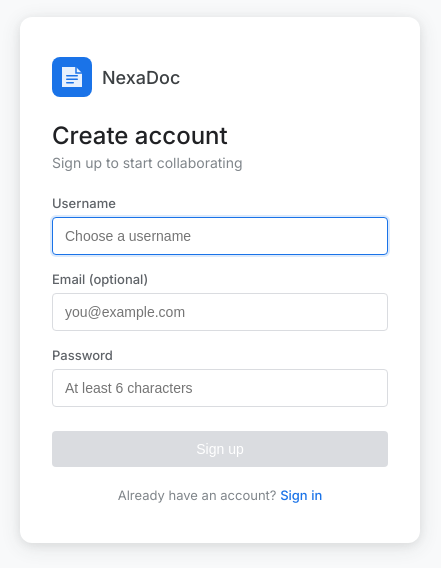
Test case: RegisterPage › enables submit when username and password are filled
Type "newuser" into the field with placeholder "Choose a username".
click(220, 236); type("newuser")  # box left=52, top=217, right=388, bottom=255
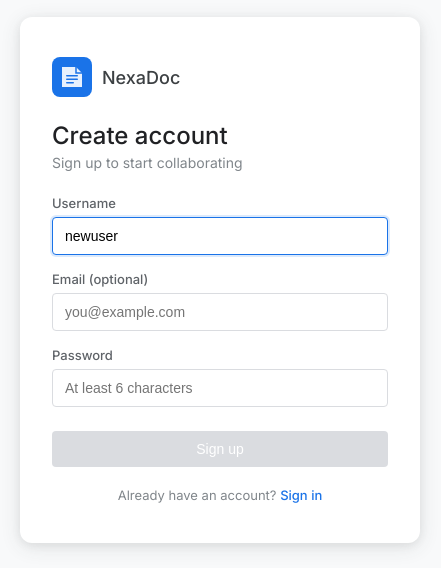
Type "pass123" into the password field with placeholder "At least 6 characters".
click(220, 388); type("pass123")  # box left=52, top=369, right=388, bottom=407
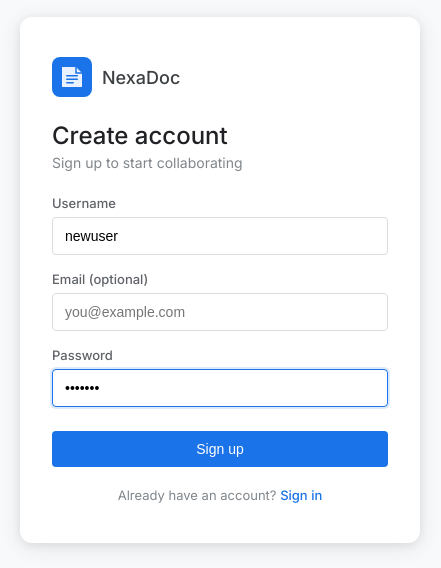
Now the button "Sign up" is enabled, box left=52, top=431, right=388, bottom=467
